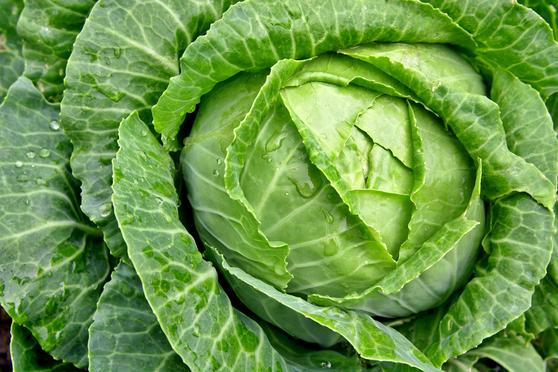cabbage: (132, 26, 518, 330)
